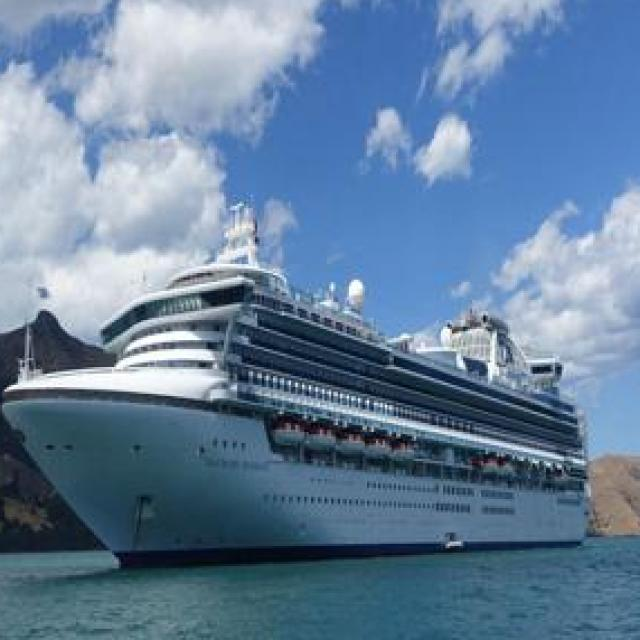passenger ship: (0, 231, 593, 575)
